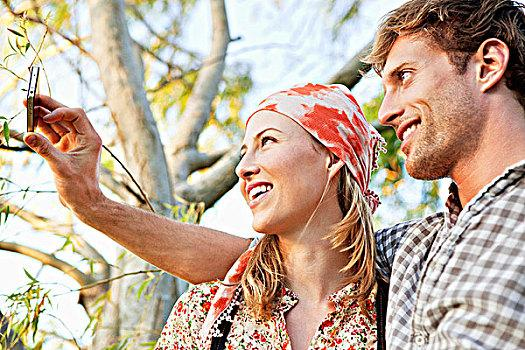taking photos: (21, 64, 104, 219)
